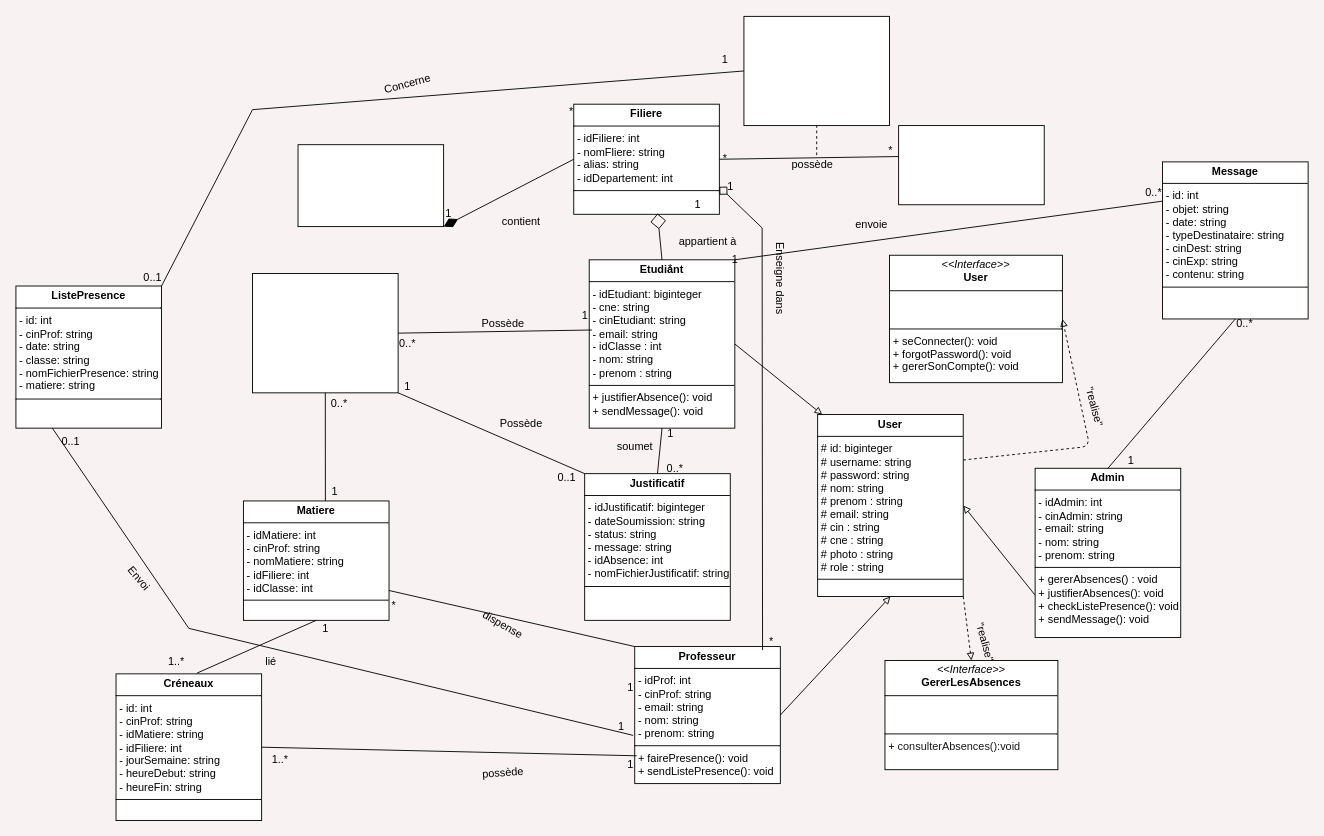
The diagram is 1324 pixels wide and 836 high, and some of its shapes have lost their labels. Each missing label, with the box of its shape:
Absence - idAbsence: int - cinEtudiant: string - date: string - idMatiere: int: (252, 273, 398, 393)
Classe - idClasse: int - nomClasse: string - idNiveau: int - idFiliere: int: (743, 15, 890, 126)
Departement - idDepartement: int - nomDepartement: string: (297, 144, 444, 227)
Niveau - idNiveau: int - nomNiveau: string: (898, 125, 1044, 205)
